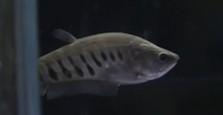Knifefish: (37, 27, 183, 100)
